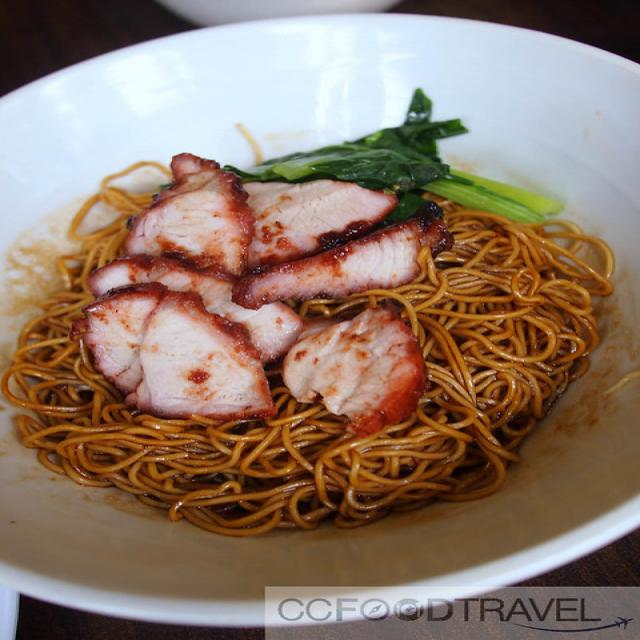Carbohydrate: (6, 151, 611, 542)
Noodle: (14, 23, 640, 572)
Protein: (84, 151, 438, 427)
Vegetable: (214, 88, 564, 223)
